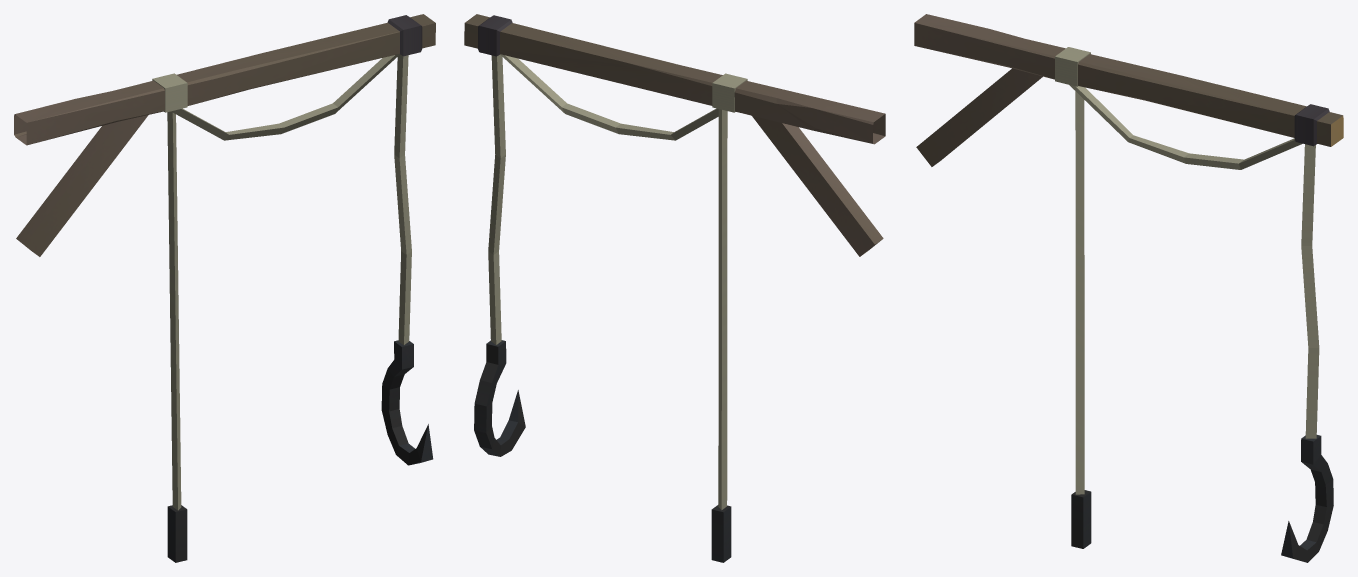
The model's file is Crane_3.fbx.
3 views of the same model, side by side, from view 1: azimuth 30°, elevation 25°; view 2: azimuth 150°, elevation 25°; view 3: azimuth 330°, elevation 25° (orthographic).
Visible parts, largest first — view 1: polySurface9795; view 2: polySurface9795; view 3: polySurface9795.
Part boxes in pixels (bbox=[...]): polySurface9795: bbox=[14, 14, 435, 562]; polySurface9795: bbox=[464, 14, 885, 562]; polySurface9795: bbox=[914, 14, 1343, 562].
Bounding box in the file's own units: 415 × 466 × 70.06.
